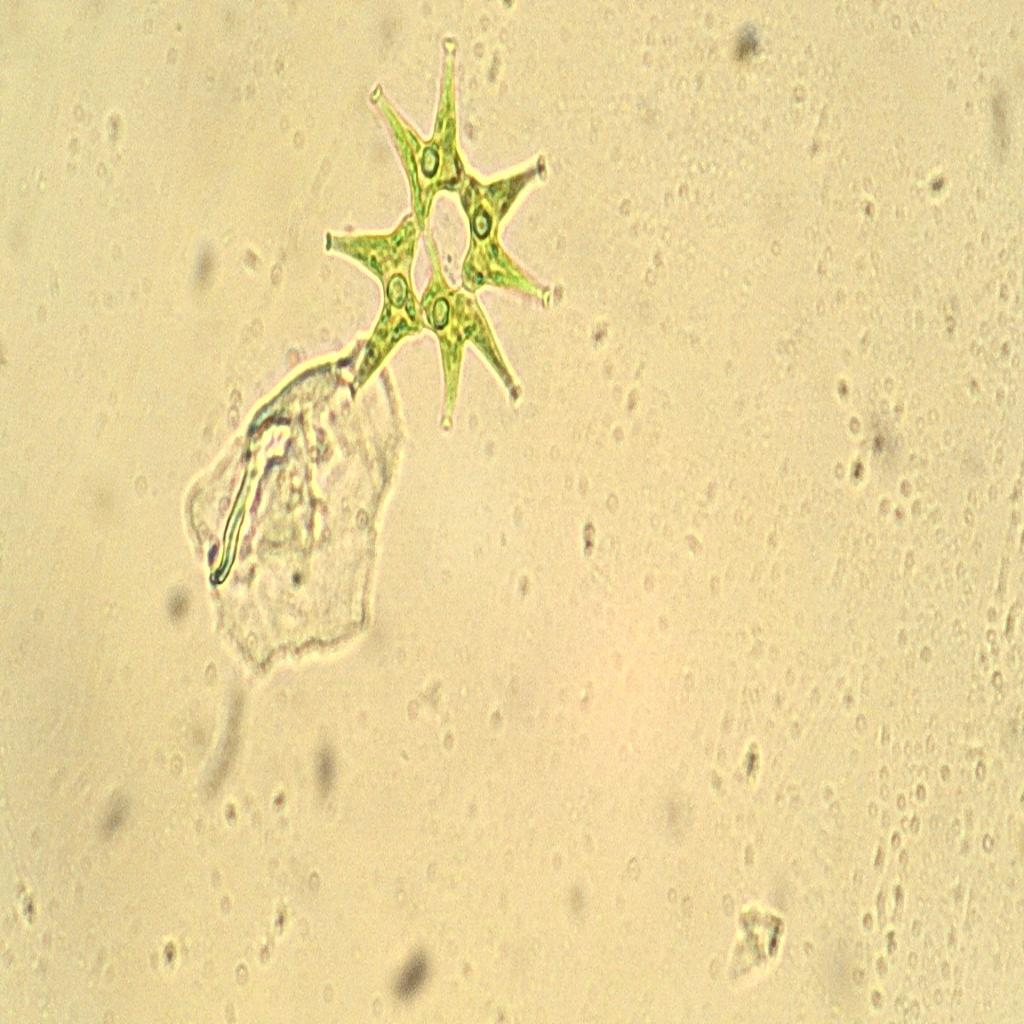Pediastrum_CF: (306, 32, 581, 456)
